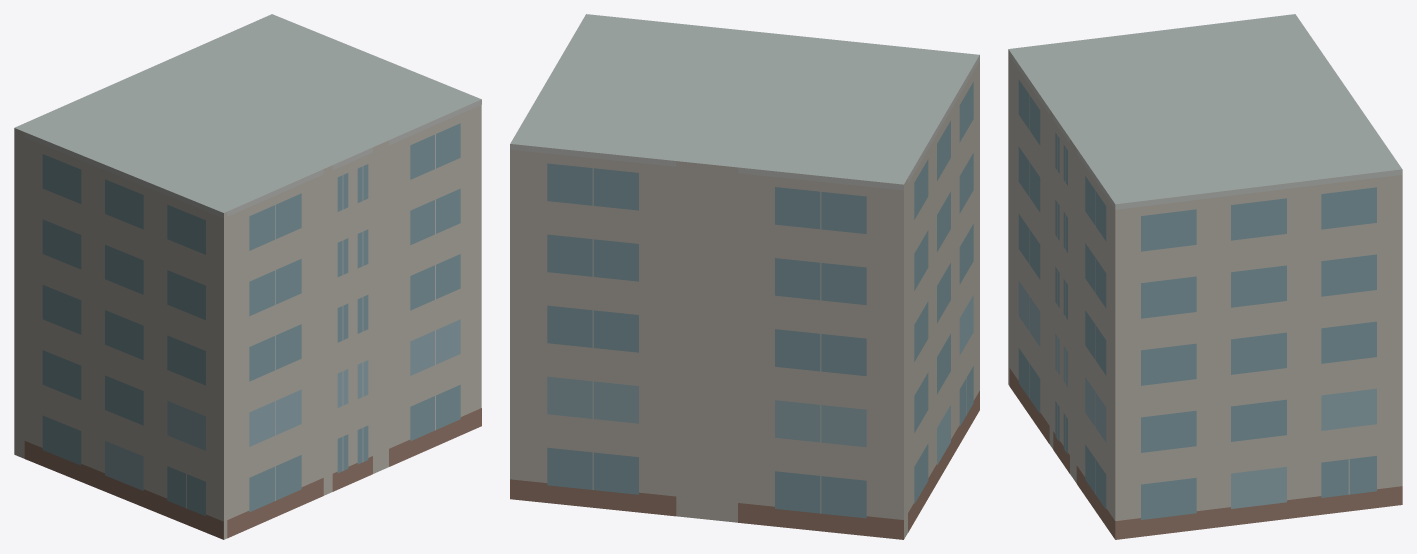
File: survey-upis-32557650.glb
The picture shows the model from 3 angles, left to right: view 1: azimuth 30°, elevation 25°; view 2: azimuth 150°, elevation 25°; view 3: azimuth 270°, elevation 25°; orthographic projection. The views are drawn at different scales.
Visible parts, largest first — view 1: survey-upis-32557650.tmp; view 2: survey-upis-32557650.tmp; view 3: survey-upis-32557650.tmp.
Boxes of the visible parts, left/top/right/bottom form: survey-upis-32557650.tmp: left=14, top=14, right=481, bottom=539; survey-upis-32557650.tmp: left=510, top=14, right=979, bottom=539; survey-upis-32557650.tmp: left=1008, top=14, right=1402, bottom=539.
Bounding box in the file's own units: 18.26 × 15 × 15.97.
